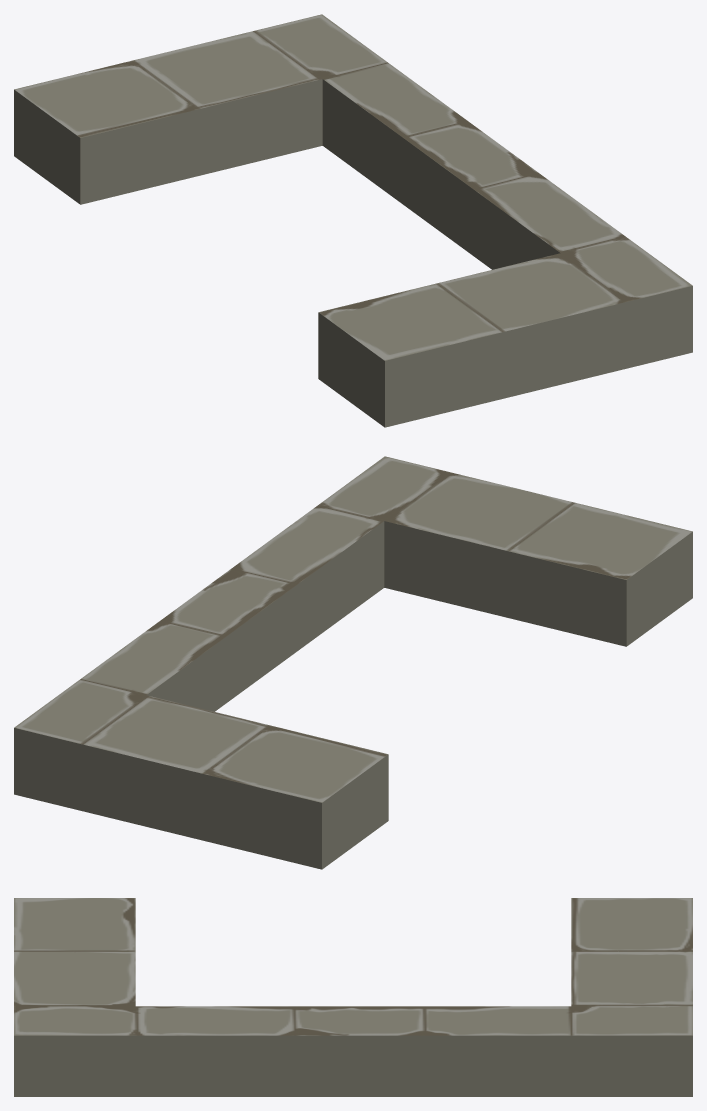
File: Piso5.obj
The picture shows the model from 3 angles, top to bottom: view 1: azimuth 30°, elevation 25°; view 2: azimuth 150°, elevation 25°; view 3: azimuth 270°, elevation 25°; orthographic projection. The views are drawn at different scales.
Parts seen in each view (by area): view 1: pasted__pCube480 group; view 2: pasted__pCube480 group; view 3: pasted__pCube480 group.
Part boxes in pixels (box(x1,y1,x2,y2)): pasted__pCube480 group: box(14, 14, 692, 427); pasted__pCube480 group: box(14, 456, 692, 869); pasted__pCube480 group: box(14, 898, 692, 1096).
Size of the model in its own units: 1.08 by 0.2233 by 2.25.
Materials: 1 (1 with a texture image).
